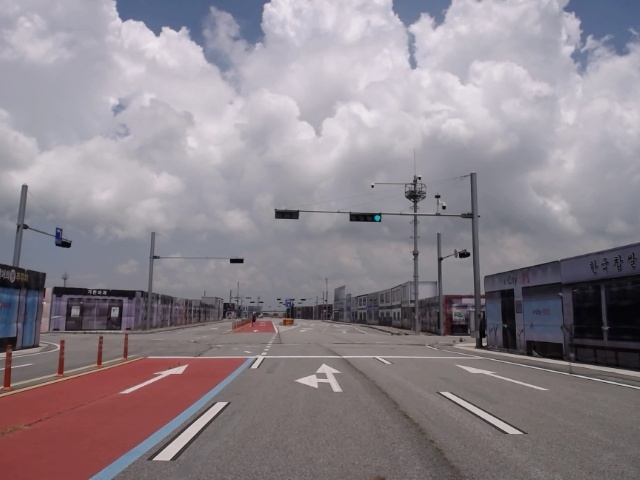straight_green_4: (349, 213, 380, 224)
